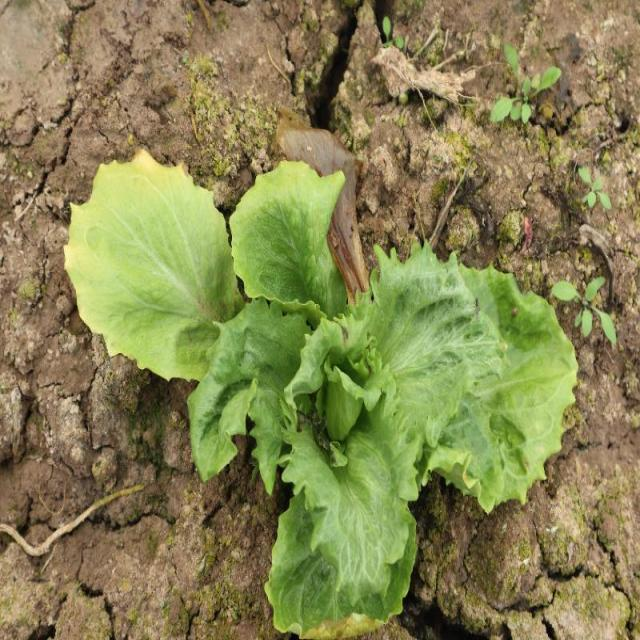crop: (67, 153, 577, 640)
